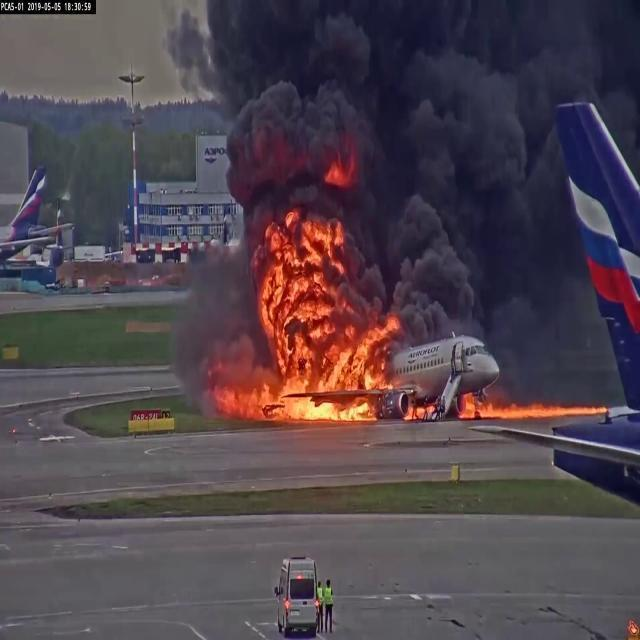Fire: (266, 241, 334, 380), (328, 328, 383, 382), (288, 401, 371, 417)
Smoke: (408, 55, 521, 216), (231, 80, 370, 191), (382, 181, 477, 337)
